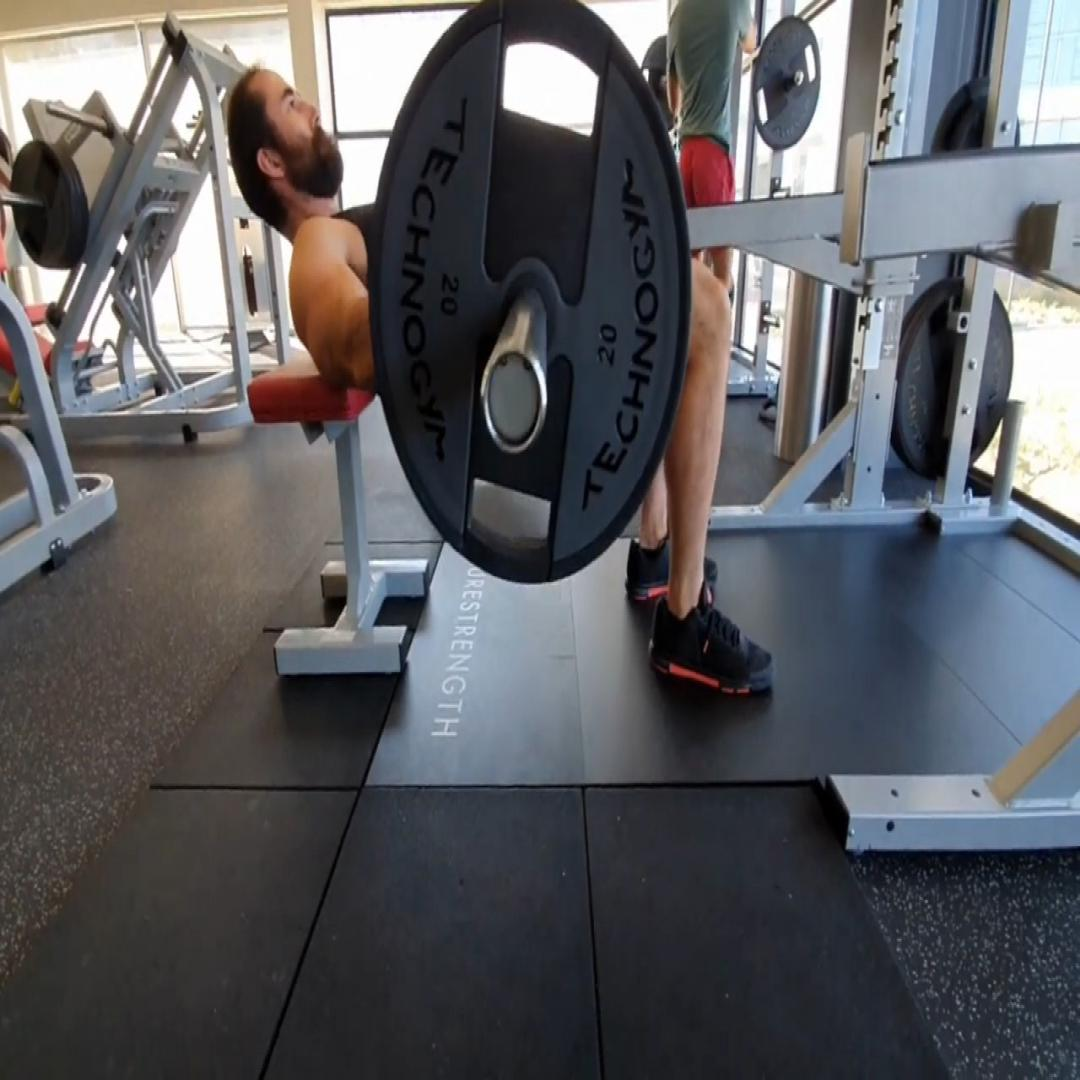Bar: (482, 346, 546, 456)
Barbell: (369, 0, 692, 587)
